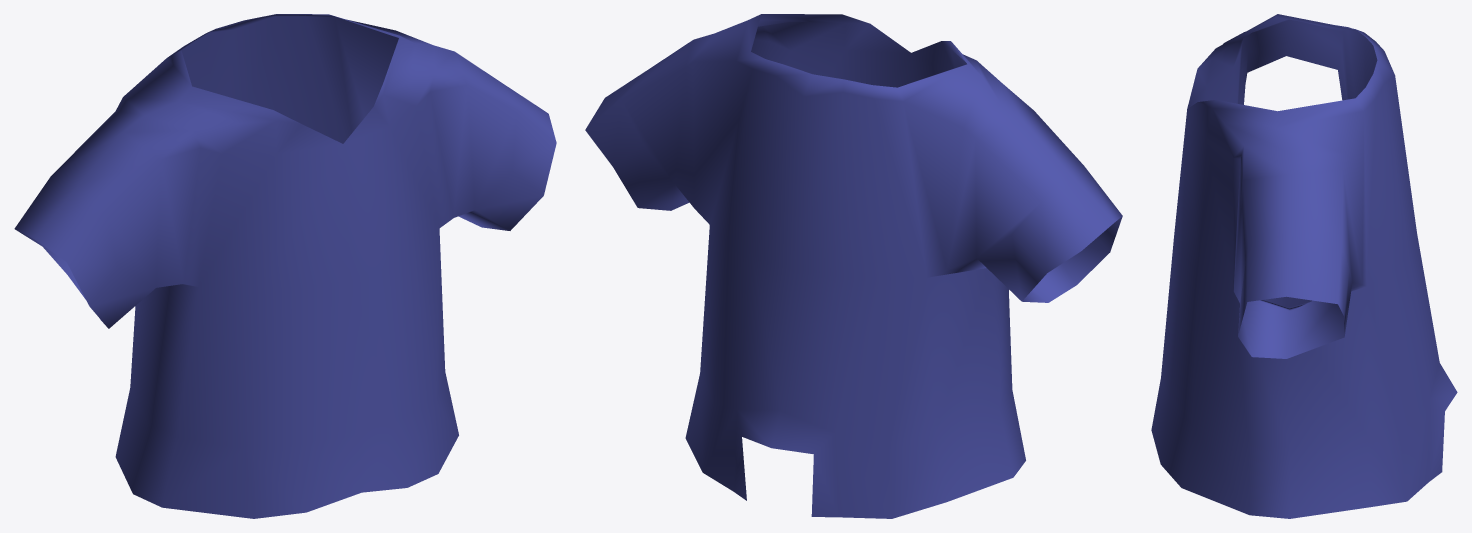
The model's file is CatBlueShirt.fbx.
The picture shows the model from 3 angles, left to right: view 1: azimuth 30°, elevation 25°; view 2: azimuth 150°, elevation 25°; view 3: azimuth 270°, elevation 25°; orthographic projection. The views are drawn at different scales.
Parts seen in each view (by area): view 1: BlueShirt; view 2: BlueShirt; view 3: BlueShirt.
Part boxes in pixels (x1,y1,x2,y2): BlueShirt: [14, 14, 556, 518]; BlueShirt: [585, 14, 1122, 518]; BlueShirt: [1151, 14, 1457, 518].
Bounding box in the file's own units: 46.48 × 35.81 × 24.98.
